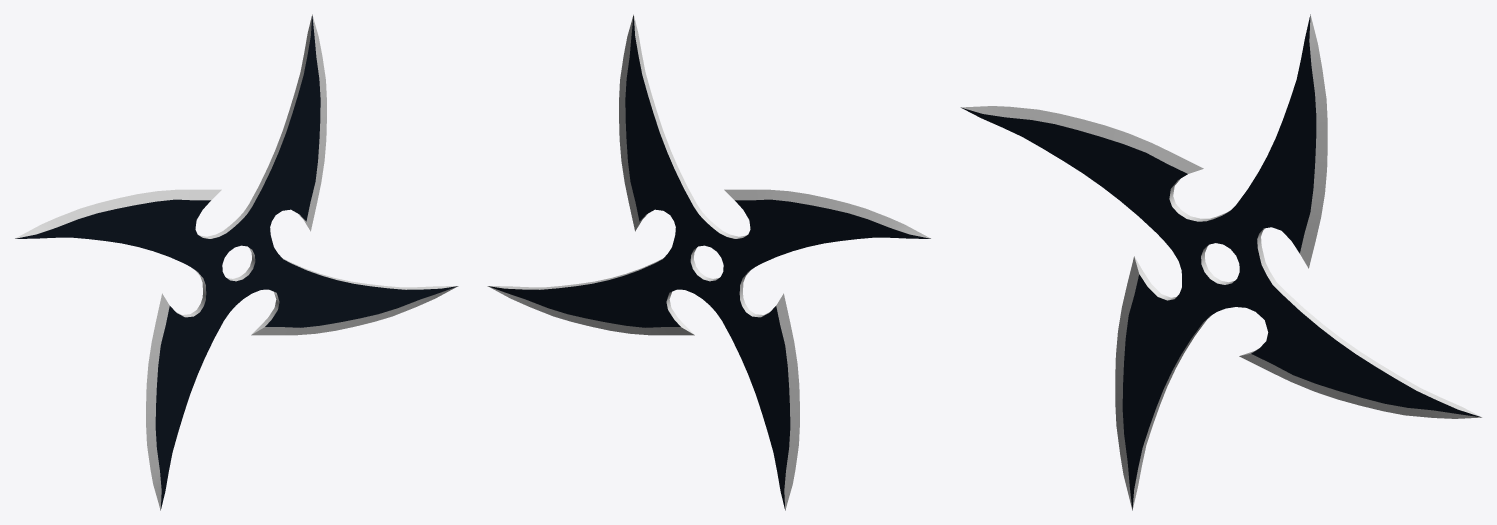
File: scene_ITRZvNPGMp.glb
3 renders of one model, left to right at view 1: azimuth 30°, elevation 25°; view 2: azimuth 150°, elevation 25°; view 3: azimuth 330°, elevation 25°, orthographic. The views are drawn at different scales.
Visible parts, largest first — view 1: Shuriken_7; view 2: Shuriken_7; view 3: Shuriken_7.
Boxes of the visible parts, box(x1,y1,x2,y2) form: Shuriken_7: box(14, 14, 458, 510); Shuriken_7: box(487, 14, 931, 510); Shuriken_7: box(960, 14, 1482, 510).
Size of the model in its own units: 2.6 by 2.57 by 0.0333.
